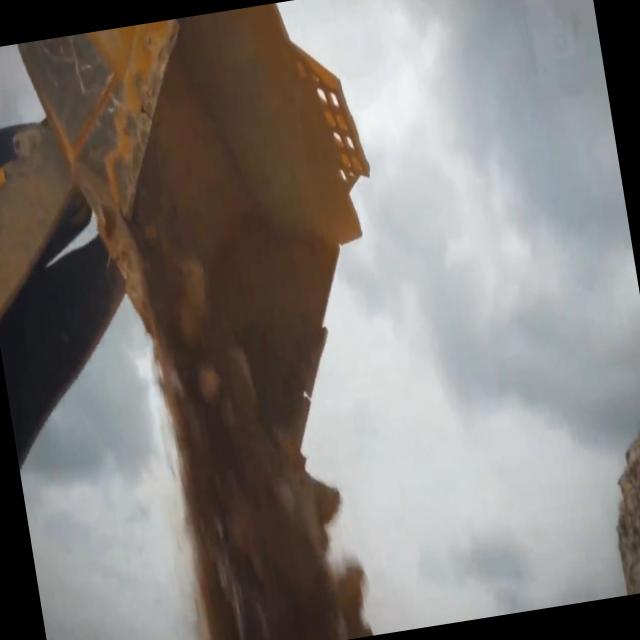pala cargadora: (0, 0, 409, 470)
